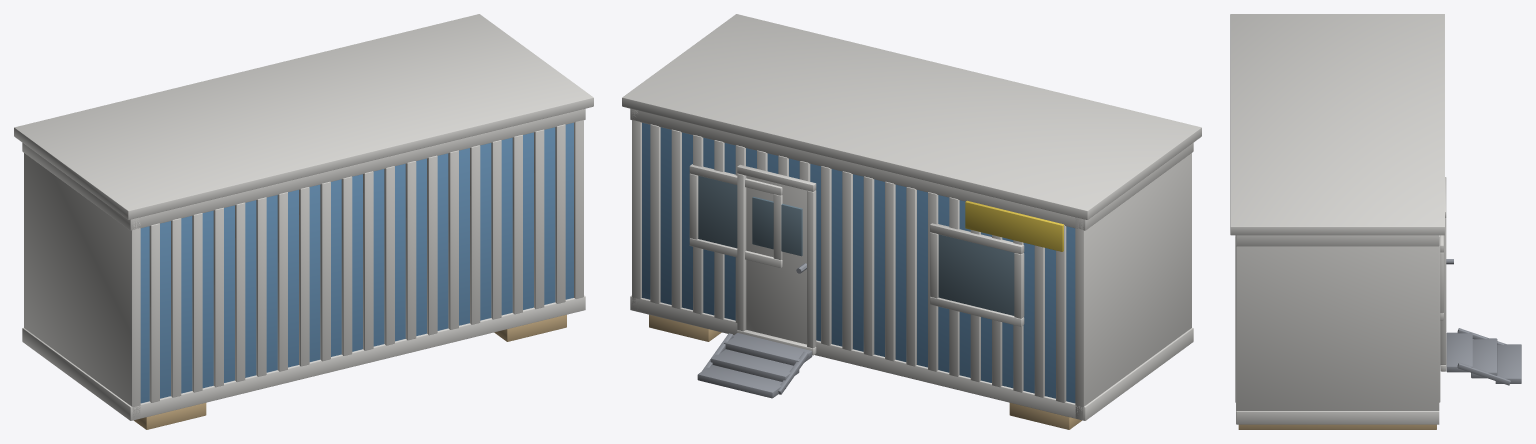
Rendered from th46_baucontainer.glb.
3 views of the same model, side by side, from view 1: azimuth 30°, elevation 25°; view 2: azimuth 150°, elevation 25°; view 3: azimuth 270°, elevation 25° (orthographic). The views are drawn at different scales.
Parts seen in each view (by area): view 1: Cube.068, Cube.002, Cube.045, Cube.043, Cube.044, Cube.021, Cube.027, Cube.017, Cube.035, Cube.005, Cube.007, Cube.013 (+16 smaller); view 2: Cube.068, Cube.002, Cube.045, Cube.043, Cube.057, Cube.044, Cube.047, Cube.069, Cube.052, Cube.058, Cube.022, Cube.018 (+31 smaller); view 3: Cube.068, Cube.046, Cube.043, Cube.044, Cube.001, Cube.063, Cube.065, Cube.064, Cube.062, Cube.067, Cube.042.
Boxes of the visible parts, x1,y1,x2,y2 form: Cube.068: [14, 14, 593, 219]; Cube.002: [140, 122, 573, 403]; Cube.045: [24, 153, 140, 420]; Cube.043: [22, 295, 585, 420]; Cube.044: [22, 108, 585, 230]; Cube.021: [341, 176, 352, 355]; Cube.027: [405, 161, 416, 340]; Cube.017: [299, 187, 309, 366]; Cube.035: [491, 140, 501, 319]; Cube.005: [171, 218, 181, 397]; Cube.007: [192, 213, 202, 392]; Cube.013: [256, 197, 266, 376]; Cube.068: [622, 14, 1201, 219]; Cube.002: [642, 122, 1075, 403]; Cube.045: [1075, 153, 1191, 420]; Cube.043: [630, 295, 1193, 420]; Cube.057: [746, 175, 806, 344]; Cube.044: [630, 108, 1193, 230]; Cube.047: [938, 234, 1014, 315]; Cube.069: [965, 200, 1063, 251]; Cube.052: [698, 175, 737, 248]; Cube.058: [752, 196, 802, 256]; Cube.022: [863, 176, 874, 355]; Cube.018: [906, 187, 916, 366]; Cube.068: [1230, 14, 1444, 235]; Cube.046: [1236, 246, 1439, 410]; Cube.043: [1236, 411, 1439, 424]; Cube.044: [1236, 235, 1439, 246]; Cube.001: [1238, 424, 1436, 429]; Cube.063: [1446, 332, 1472, 372]; Cube.065: [1495, 344, 1521, 383]; Cube.064: [1471, 338, 1497, 378]; Cube.062: [1440, 218, 1446, 364]; Cube.067: [1457, 362, 1510, 385]; Cube.042: [1439, 235, 1440, 402].
Size of the model in its own units: 6.2 by 2.9 by 3.58.
